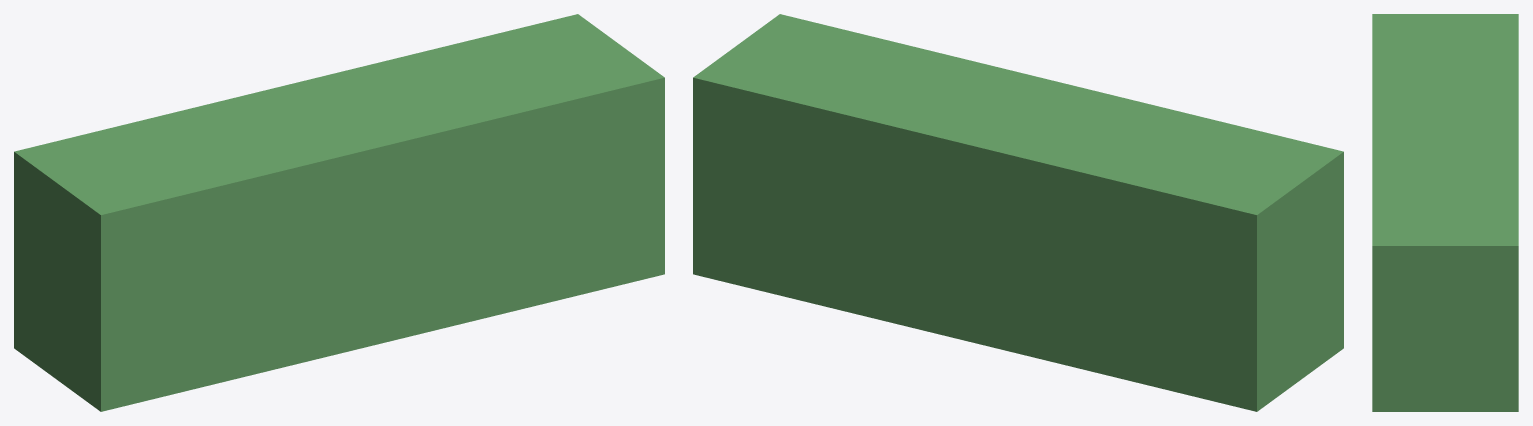
File: boxwood_hedge.glb
3 views of the same model, side by side, from view 1: azimuth 30°, elevation 25°; view 2: azimuth 150°, elevation 25°; view 3: azimuth 270°, elevation 25° (orthographic). The views are drawn at different scales.
Parts seen in each view (by area): view 1: hedge; view 2: hedge; view 3: hedge.
Boxes of the visible parts, bbox=[...] form: hedge: bbox=[14, 14, 664, 411]; hedge: bbox=[693, 14, 1343, 411]; hedge: bbox=[1372, 14, 1518, 411].
Size of the model in its own units: 3 by 1 by 0.8008.
